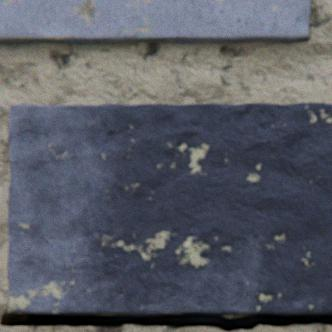brick: (9, 104, 331, 315), (0, 0, 311, 45)
crack: (0, 312, 331, 331)
